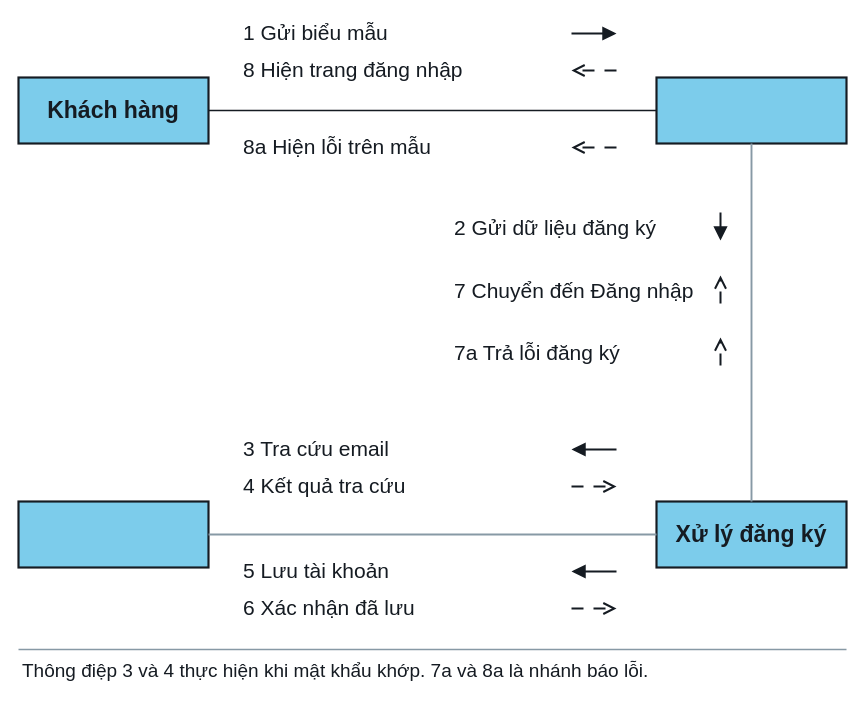
This 865x701 diagram has some shape labels left out. Here are the shapes that lost their labels. From the top down, the centre of each, then its label:
At (x=751, y=110): "Trang đăng ký".
At (x=113, y=534): "Cơ sở dữ liệu".
